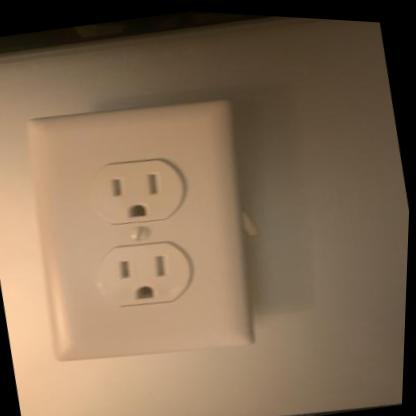OUTLET: (8, 81, 281, 379)
